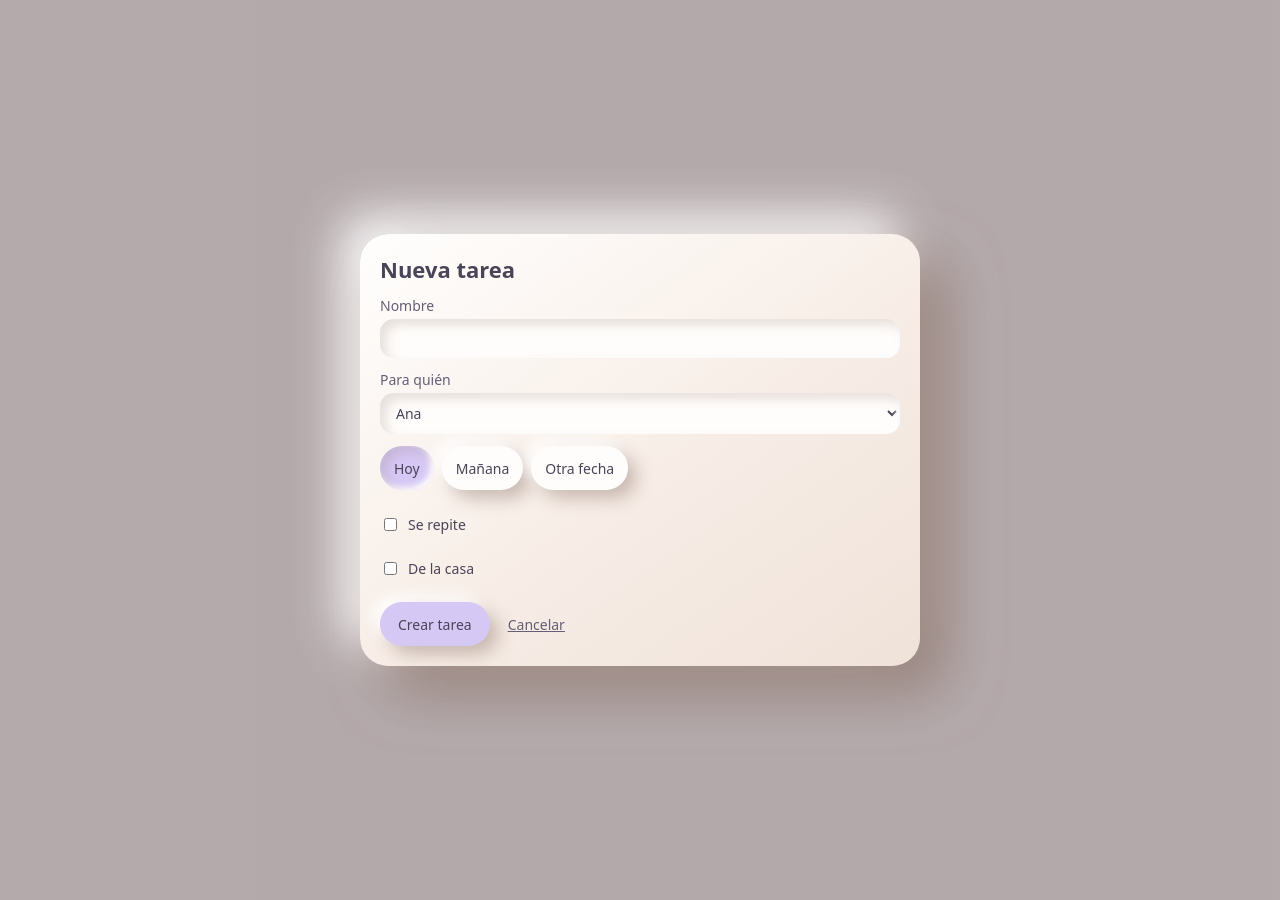
Test: sin nombre no crea y avisa
The image size is (1280, 900).
What coordinates should you click on to do the following:
click the button "Crear tarea"
I would click on:
 (435, 624)
Its box is [380,602,490,646].
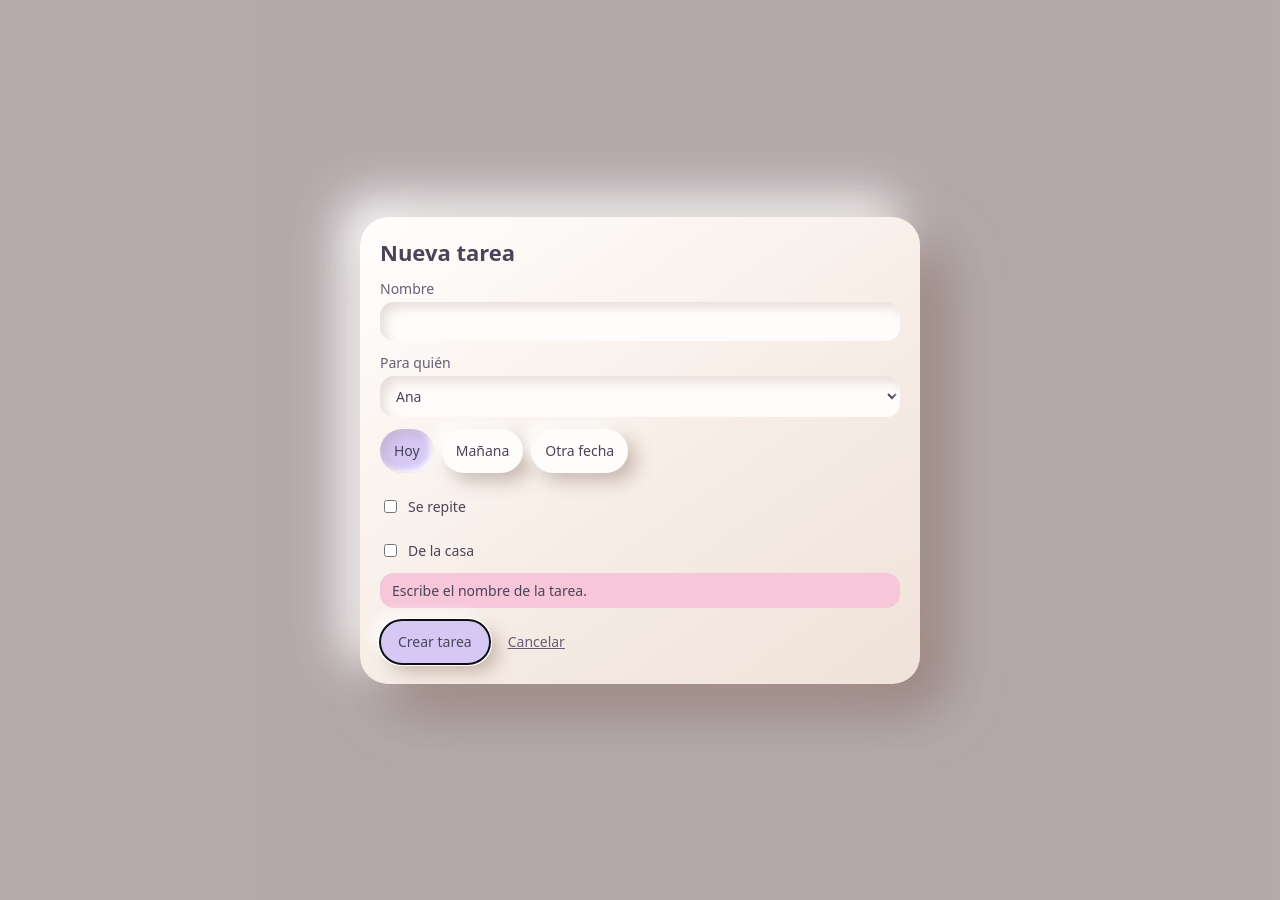
Result: the message reads "Escribe el nombre de la tarea." at [392,580,587,600]
